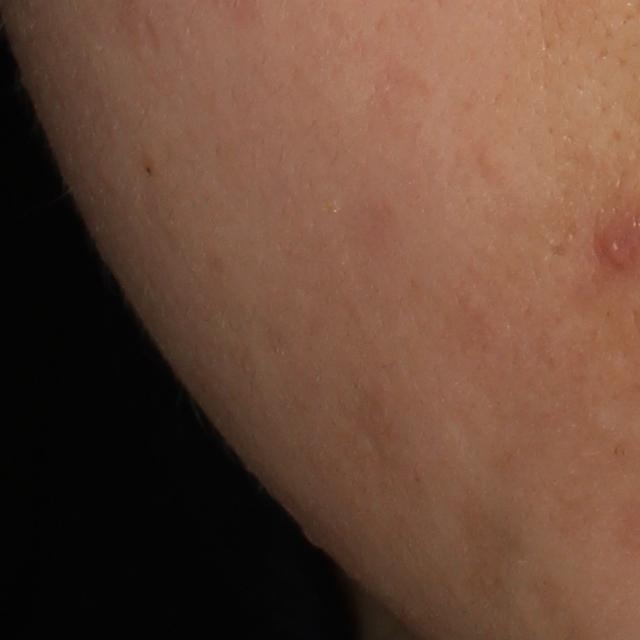papule: (596, 231, 639, 270)
